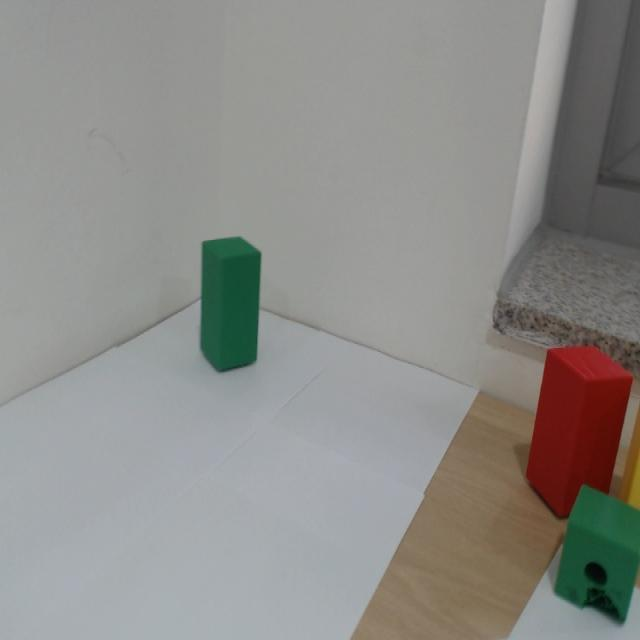cube: (178, 199, 287, 386)
